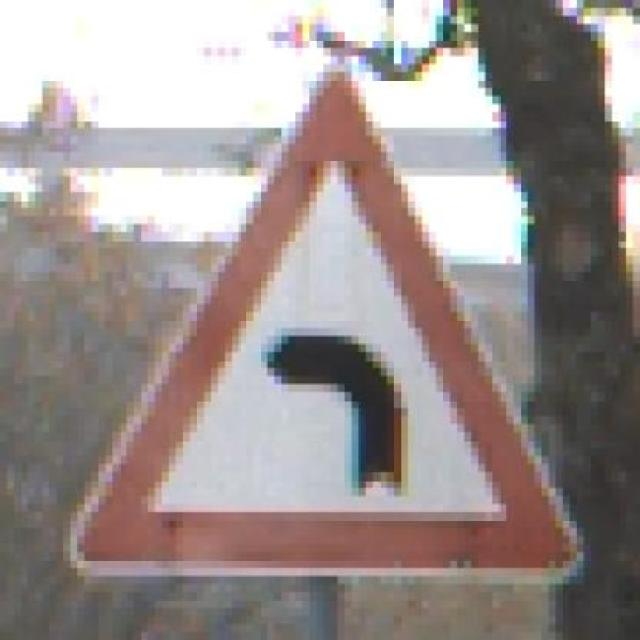Dangerous Left Curve Ahead: (56, 48, 592, 600)
